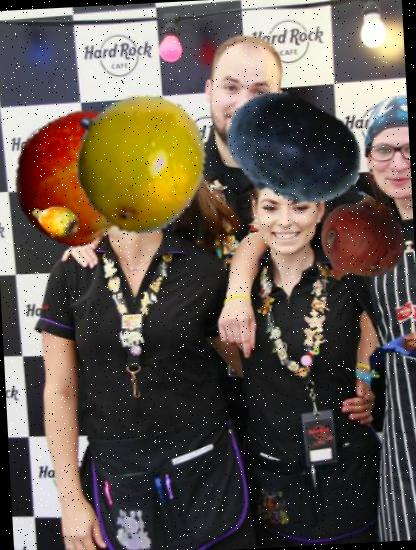Blueberry: (219, 77, 367, 225)
Cactus: (28, 194, 82, 248)
Maracuja: (62, 87, 212, 236)
Nectarine: (7, 103, 156, 252)
Onion: (312, 195, 410, 293)
